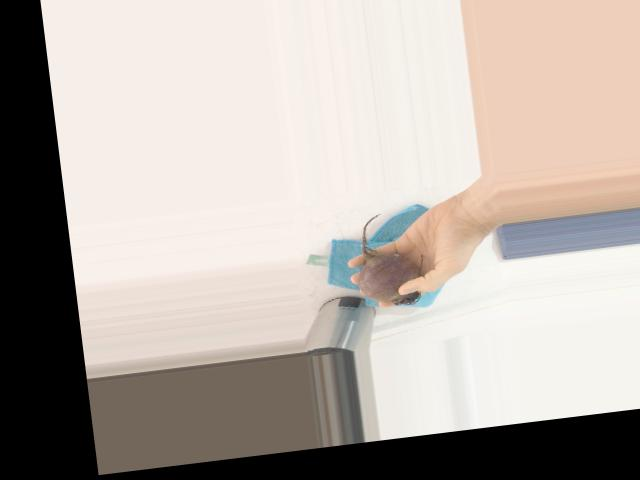beet: (350, 209, 427, 310)
